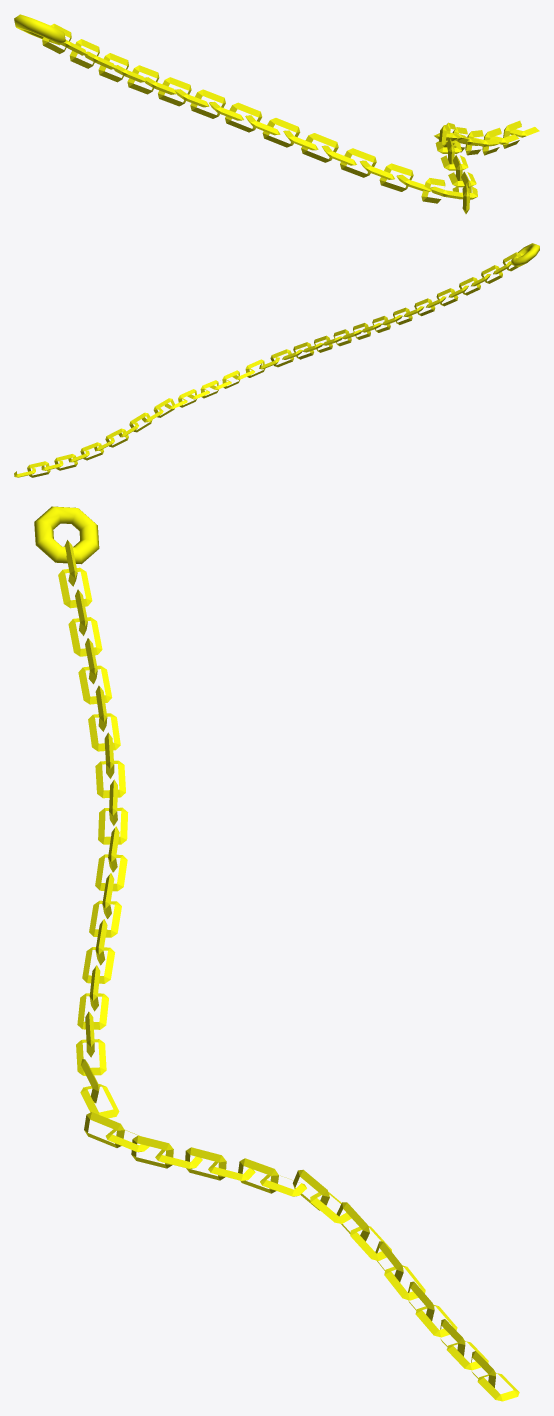
Rendered from flame_chain_007.glb.
3 views of the same model, one above another, from view 1: azimuth 30°, elevation 25°; view 2: azimuth 150°, elevation 25°; view 3: azimuth 270°, elevation 25° (orthographic). The views are drawn at different scales.
Parts seen in each view (by area): view 1: flame_chain_007; view 2: flame_chain_007; view 3: flame_chain_007.
Part boxes in pixels (x1,y1,x2,y2): flame_chain_007: (14, 14, 539, 213); flame_chain_007: (14, 243, 539, 477); flame_chain_007: (34, 506, 519, 1401).
Size of the model in its own units: 24.18 by 13.93 by 12.25.
Materials: 1 (1 with a texture image).
